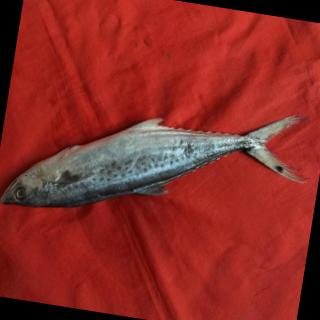Ikan: (1, 69, 311, 260)
